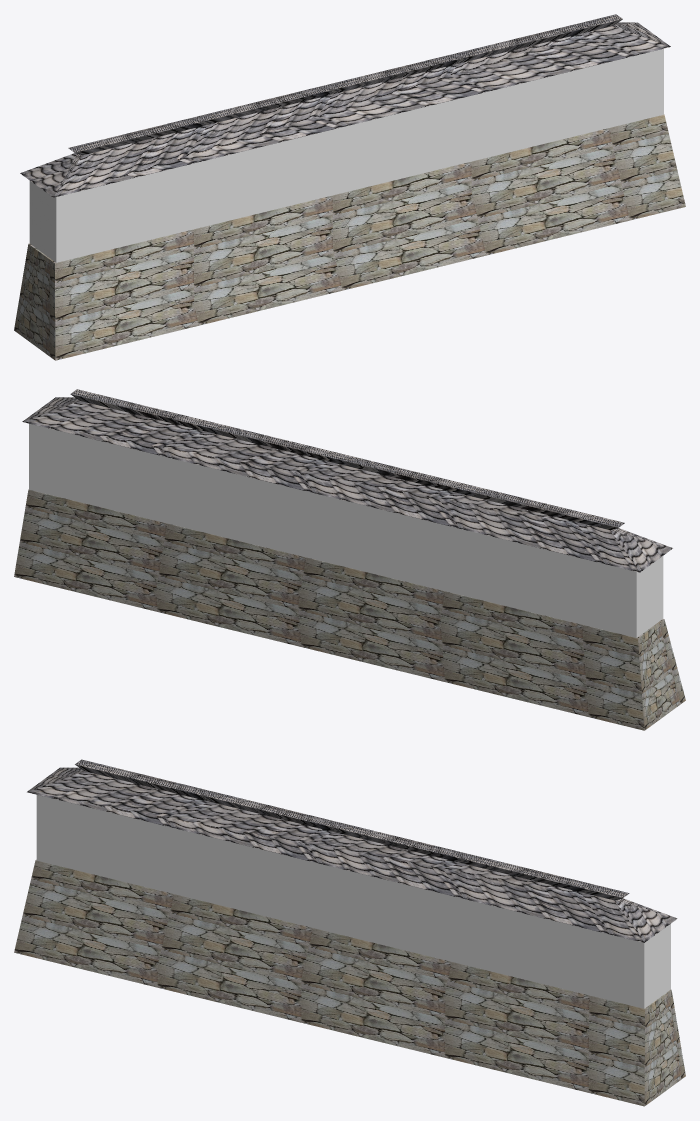
Rendered from wall.fbx.
The picture shows the model from 3 angles, top to bottom: view 1: azimuth 30°, elevation 25°; view 2: azimuth 150°, elevation 25°; view 3: azimuth 330°, elevation 25°; orthographic projection.
Parts seen in each view (by area): view 1: Box016, Box015, Box017; view 2: Box016, Box015, Box017; view 3: Box016, Box015, Box017.
Boxes of the visible parts, <box> form: Box016: <box>14,114,685,360</box>; Box015: <box>29,48,663,262</box>; Box017: <box>20,14,670,197</box>; Box016: <box>14,489,685,730</box>; Box015: <box>29,423,663,637</box>; Box017: <box>22,389,672,572</box>; Box016: <box>14,859,685,1106</box>; Box015: <box>36,795,670,1008</box>; Box017: <box>27,759,677,942</box>.
Bounding box in the file's own units: 905 × 103 × 251.
3 materials, 3 textured.
